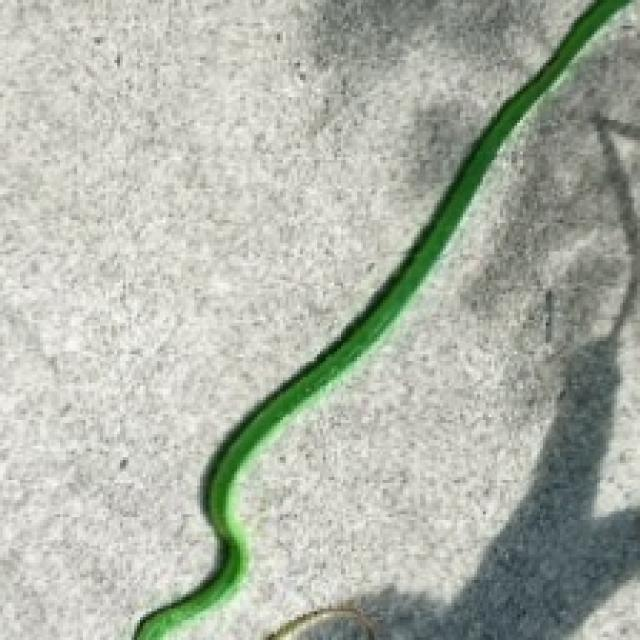red-tailed green ratsnake: (134, 0, 626, 637)
